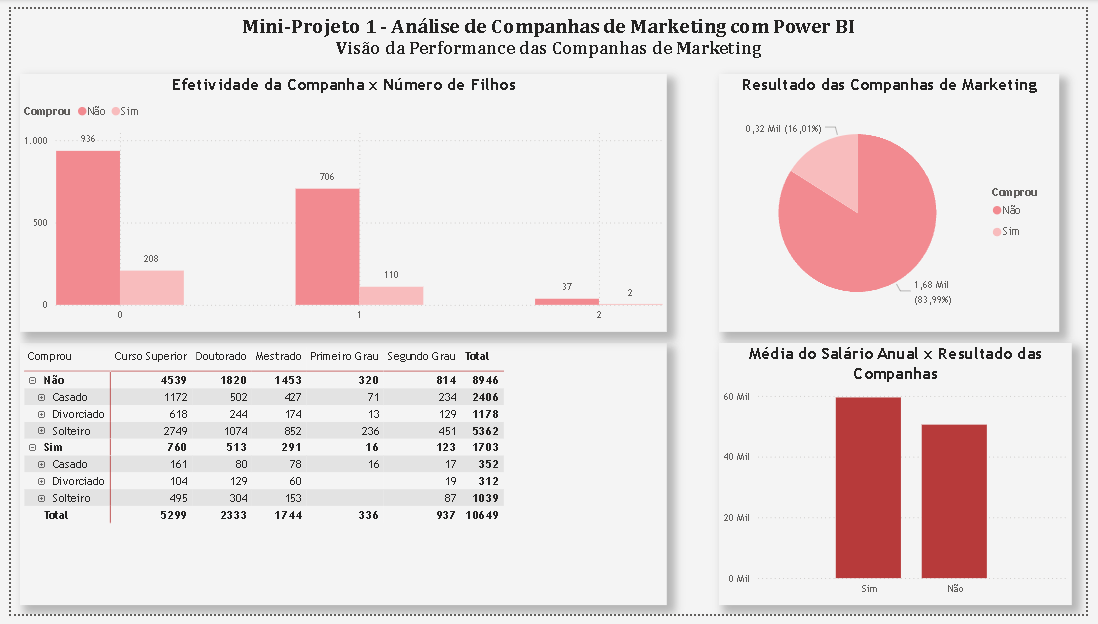

The page's visual inventory and layout, read from the dashboard file:
{"tool":"powerbi","page":{"name":"Visão Companhas","canvas":[1280,720],"ordinal":2},"visuals":[{"type":"textbox","box":[236.9,0,806,88.1],"z":0},{"type":"pieChart","title":"Resultado das Companhas de Marketing","fields":{"Category":["DadosMarketing.Comprou"],"Y":["CountNonNull(DadosMarketing.ID)"]},"box":[842.9,77.4,404.8,307.1],"z":1},{"type":"columnChart","title":"Média do Salário Anual x Resultado das Companhas","fields":{"Category":["DadosMarketing.Comprou"],"Y":["Avg(DadosMarketing.Salario Anual)"]},"box":[842.9,397.6,420.2,311.9],"z":2},{"type":"pivotTable","fields":{"Rows":["DadosMarketing.Comprou","DadosMarketing.Estado Civil","DadosMarketing.Pais"],"Values":["Sum(DadosMarketing.Numero Visitas WebSite Mes)"],"Columns":["DadosMarketing.Escolaridade"]},"box":[10.7,397.6,770.2,311.9],"z":3},{"type":"clusteredColumnChart","title":"Efetividade da Companha x  Número de Filhos","fields":{"Category":["DadosMarketing.Filhos em Casa"],"Series":["DadosMarketing.Comprou"],"Y":["CountNonNull(DadosMarketing.Filhos em Casa)"]},"box":[10.7,77.4,770.2,307.1],"z":4}]}

Visuals, with their boxes in screenshot pixels (x1, y1, x2, y2), scaled from the page's 1280x720 canvas onto the 1098x624 screenshot:
textbox: 203 0 895 76
"Resultado das Companhas de Marketing" pieChart: 723 67 1070 333
"Média do Salário Anual x Resultado das Companhas" columnChart: 723 345 1084 615
pivotTable - DadosMarketing.Comprou x DadosMarketing.Estado Civil: 9 345 670 615
"Efetividade da Companha x  Número de Filhos" clusteredColumnChart: 9 67 670 333
